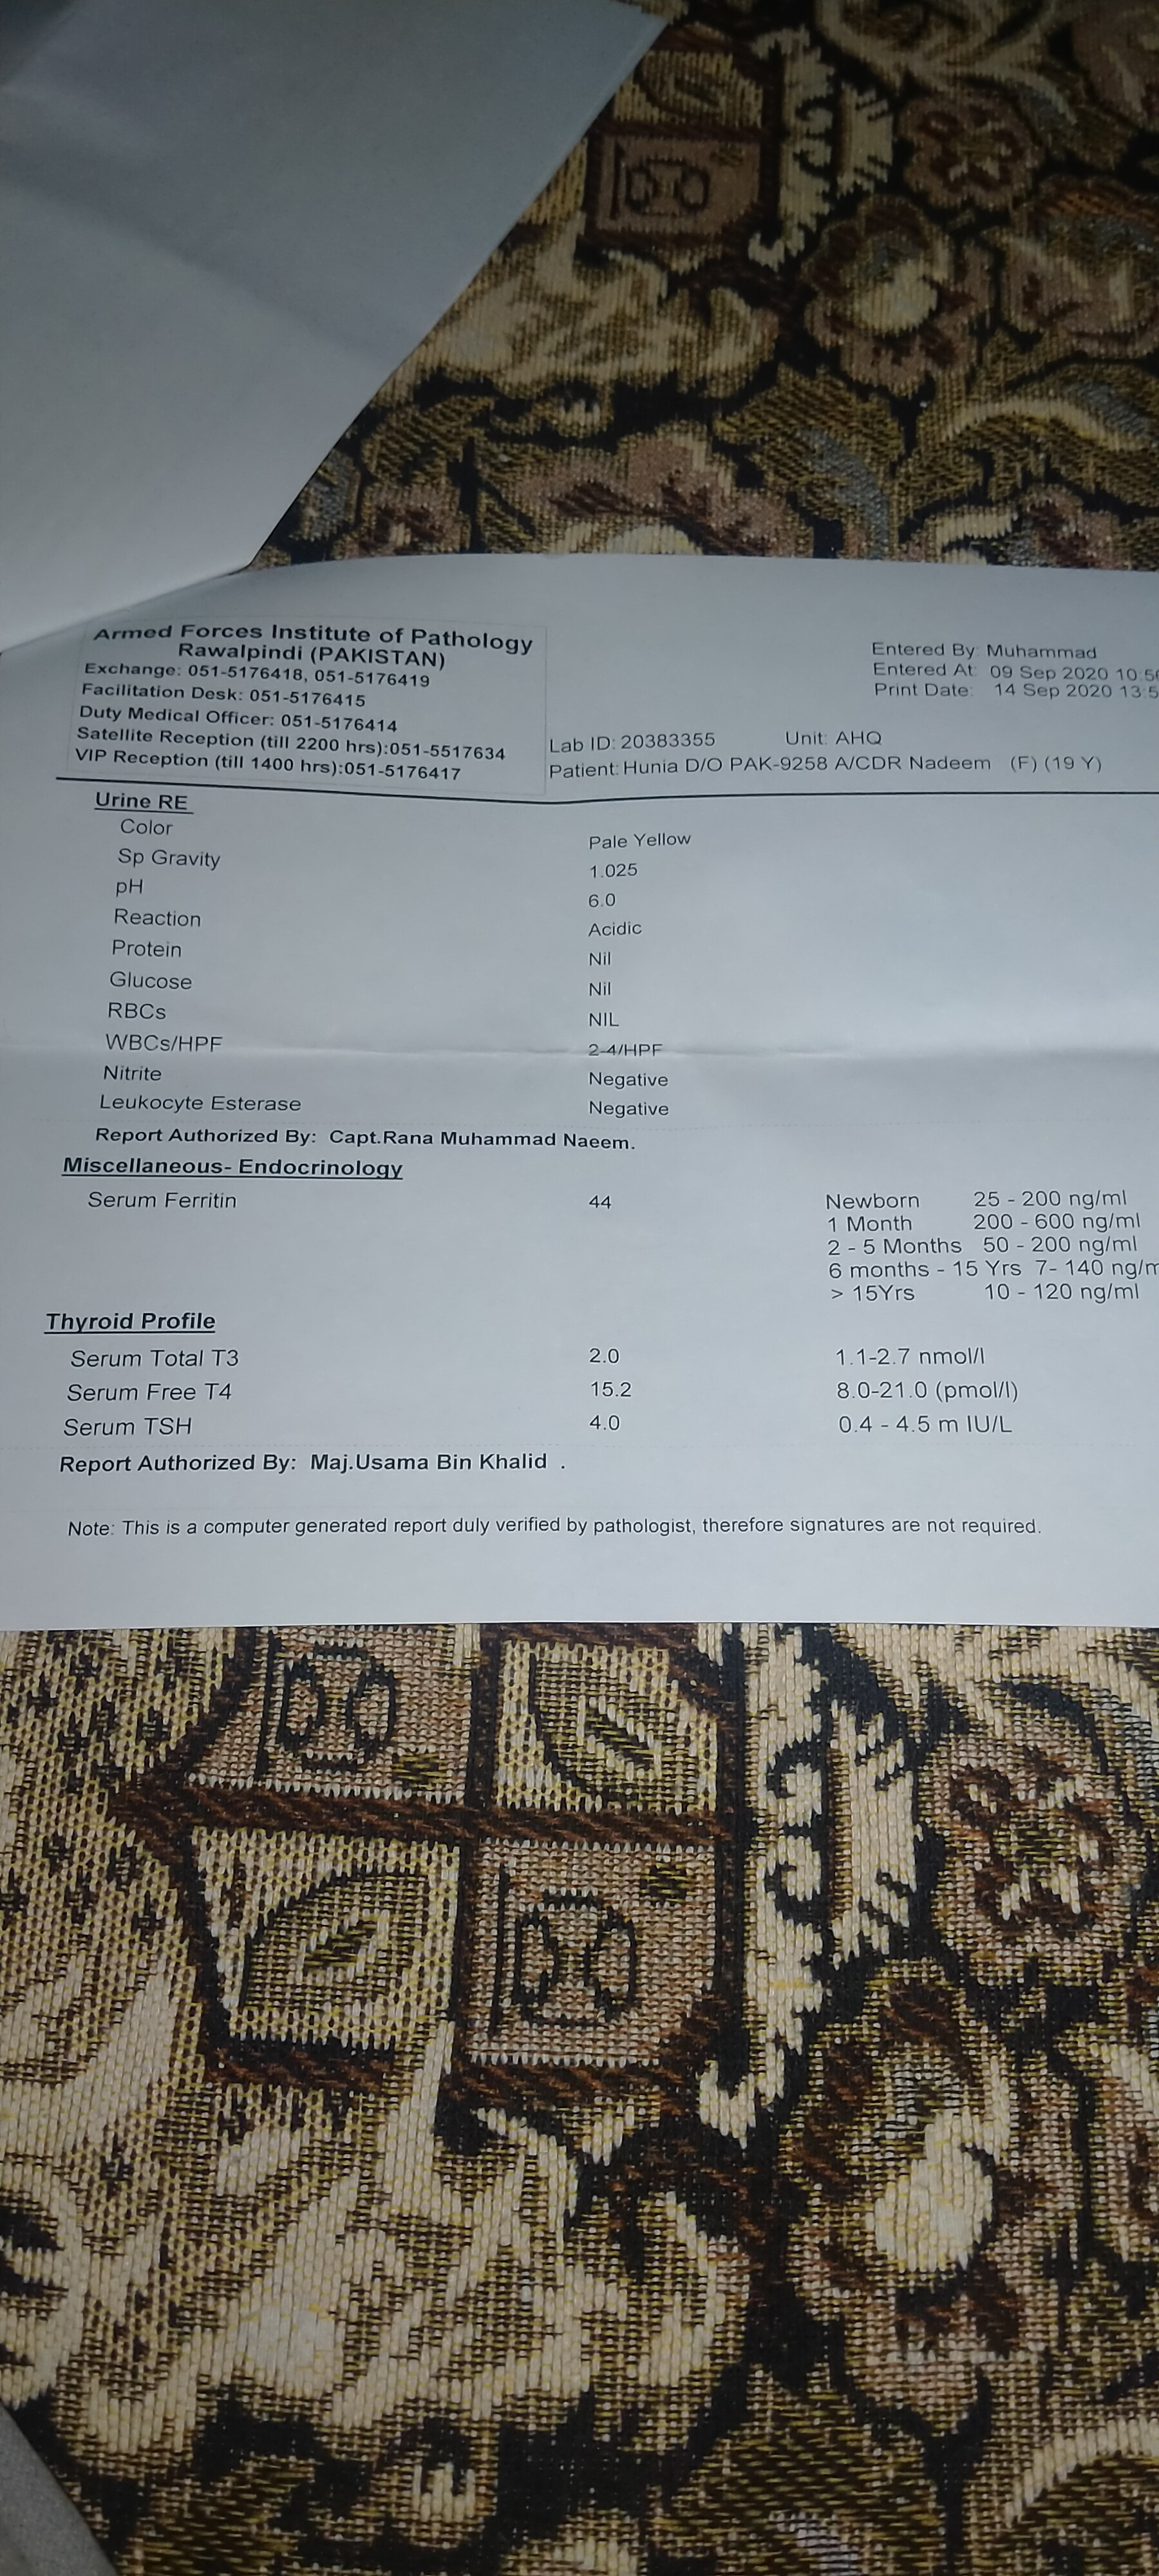report: (30, 780, 1159, 1490)
